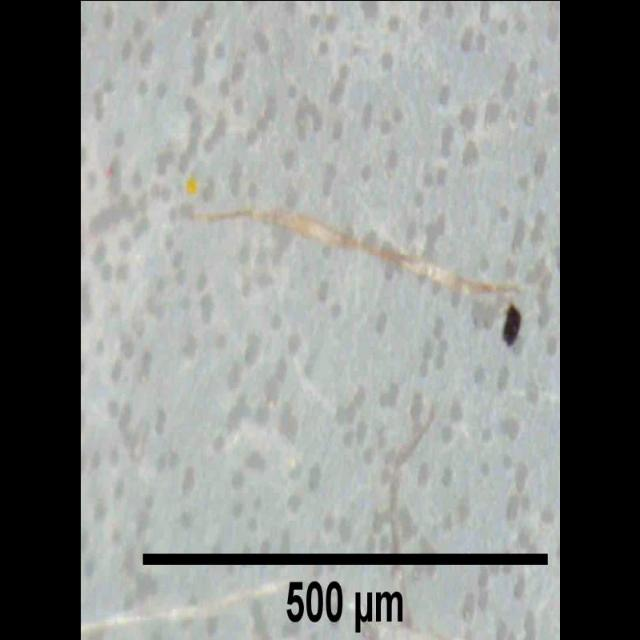Fibre: (176, 194, 526, 310)
